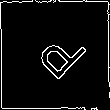P_SW: (24, 23, 86, 87)
